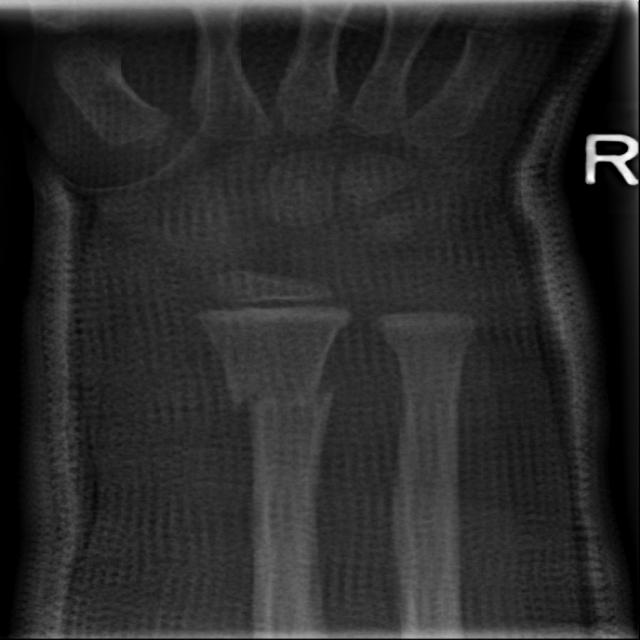radius fracture: (198, 352, 362, 468)
